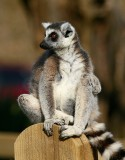cat: (15, 19, 124, 159)
